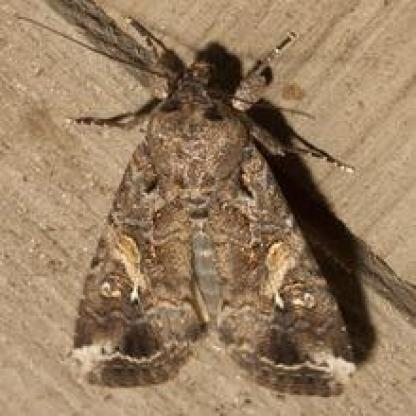armyworm: (36, 4, 378, 392)
